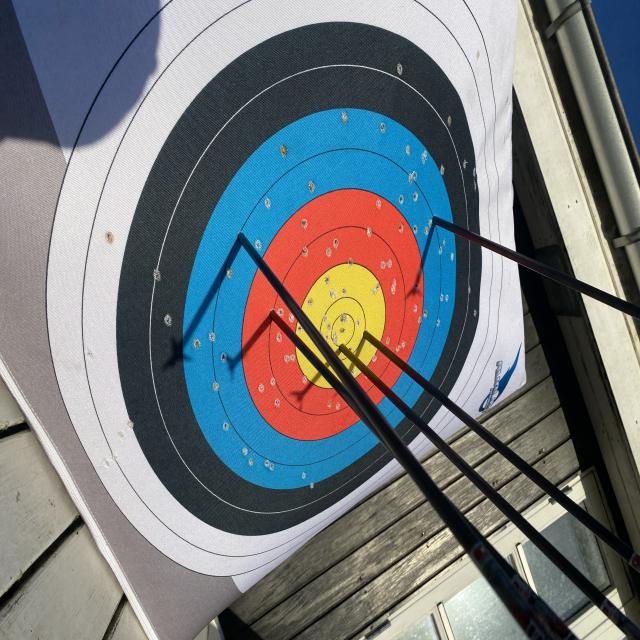Arrow_Blue: (231, 216, 258, 270), (416, 206, 446, 242)
Arrow_Red: (260, 300, 286, 334)
Arrow_Yellow: (352, 320, 378, 349), (333, 332, 352, 366)
